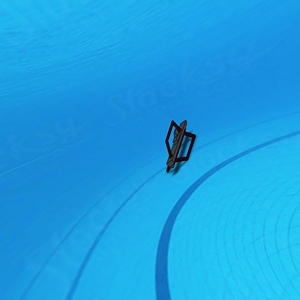submarine: (162, 120, 195, 166)
